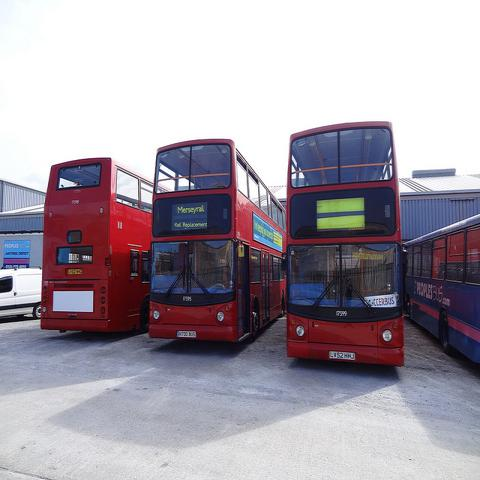bus: (284, 119, 406, 366), (146, 145, 286, 346), (40, 157, 155, 332), (403, 217, 479, 371)
truck: (0, 267, 42, 319)
